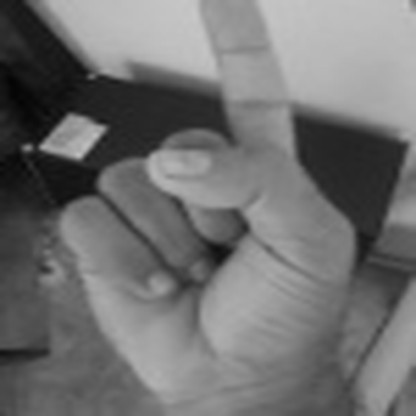d: (52, 1, 368, 395)
